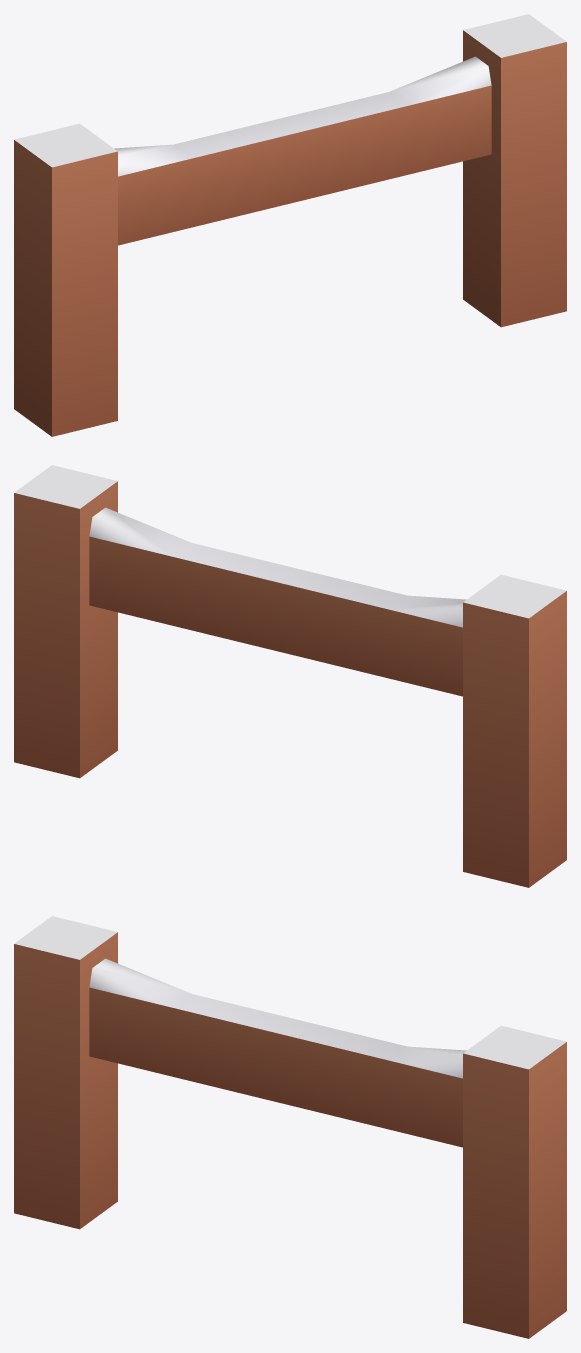
Rendered from snow-wood-structure-part.fbx.
The picture shows the model from 3 angles, top to bottom: view 1: azimuth 30°, elevation 25°; view 2: azimuth 150°, elevation 25°; view 3: azimuth 330°, elevation 25°; orthographic projection.
Visible parts, largest first — view 1: snow-wood-structure-part; view 2: snow-wood-structure-part; view 3: snow-wood-structure-part.
Boxes of the visible parts, x1,y1,x2,y2 form: snow-wood-structure-part: [14, 14, 566, 436]; snow-wood-structure-part: [14, 465, 566, 887]; snow-wood-structure-part: [14, 916, 566, 1338].
Size of the model in its own units: 100 by 50 by 12.8.
